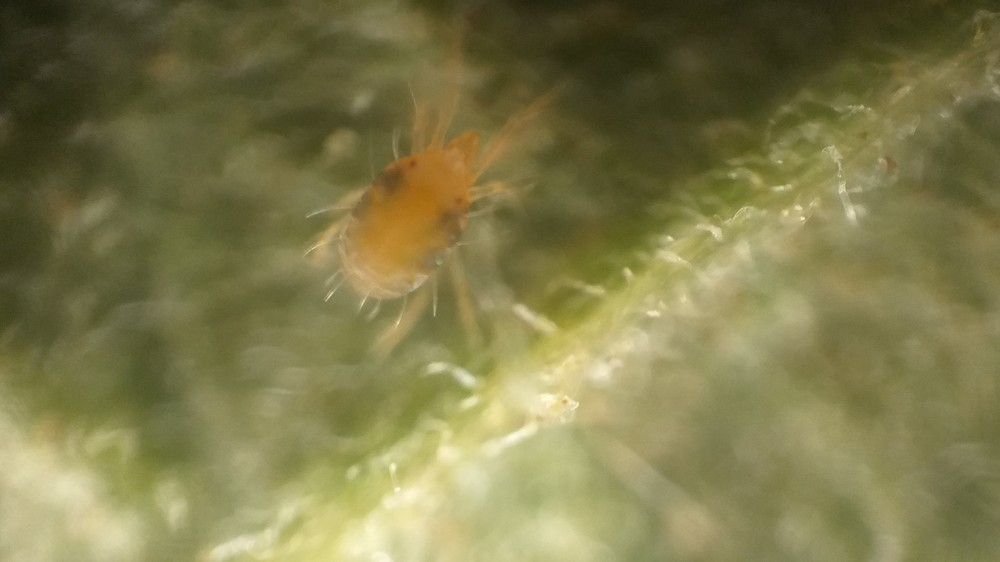Aracnido Rojo: (301, 46, 592, 346)
